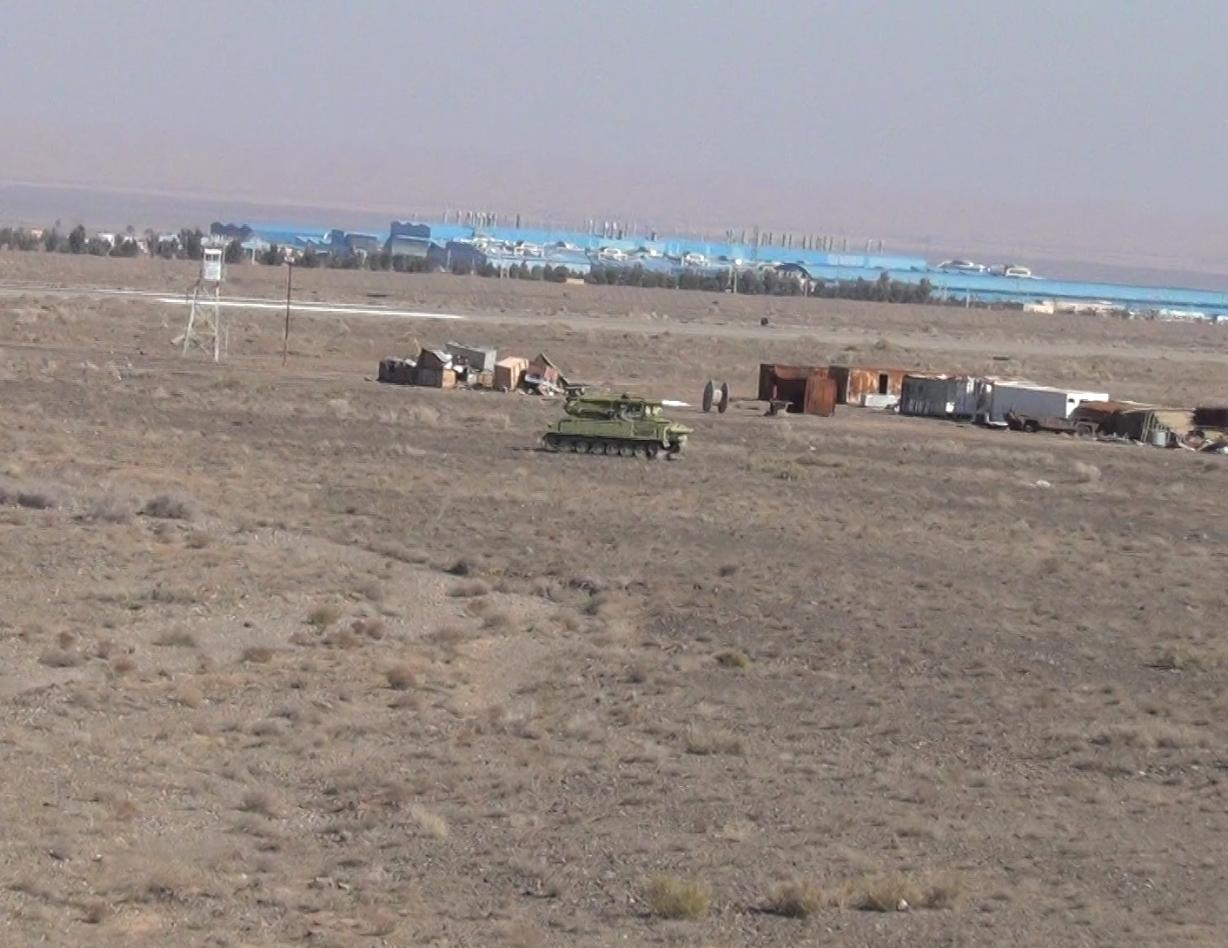armored_car: (535, 392, 700, 461)
